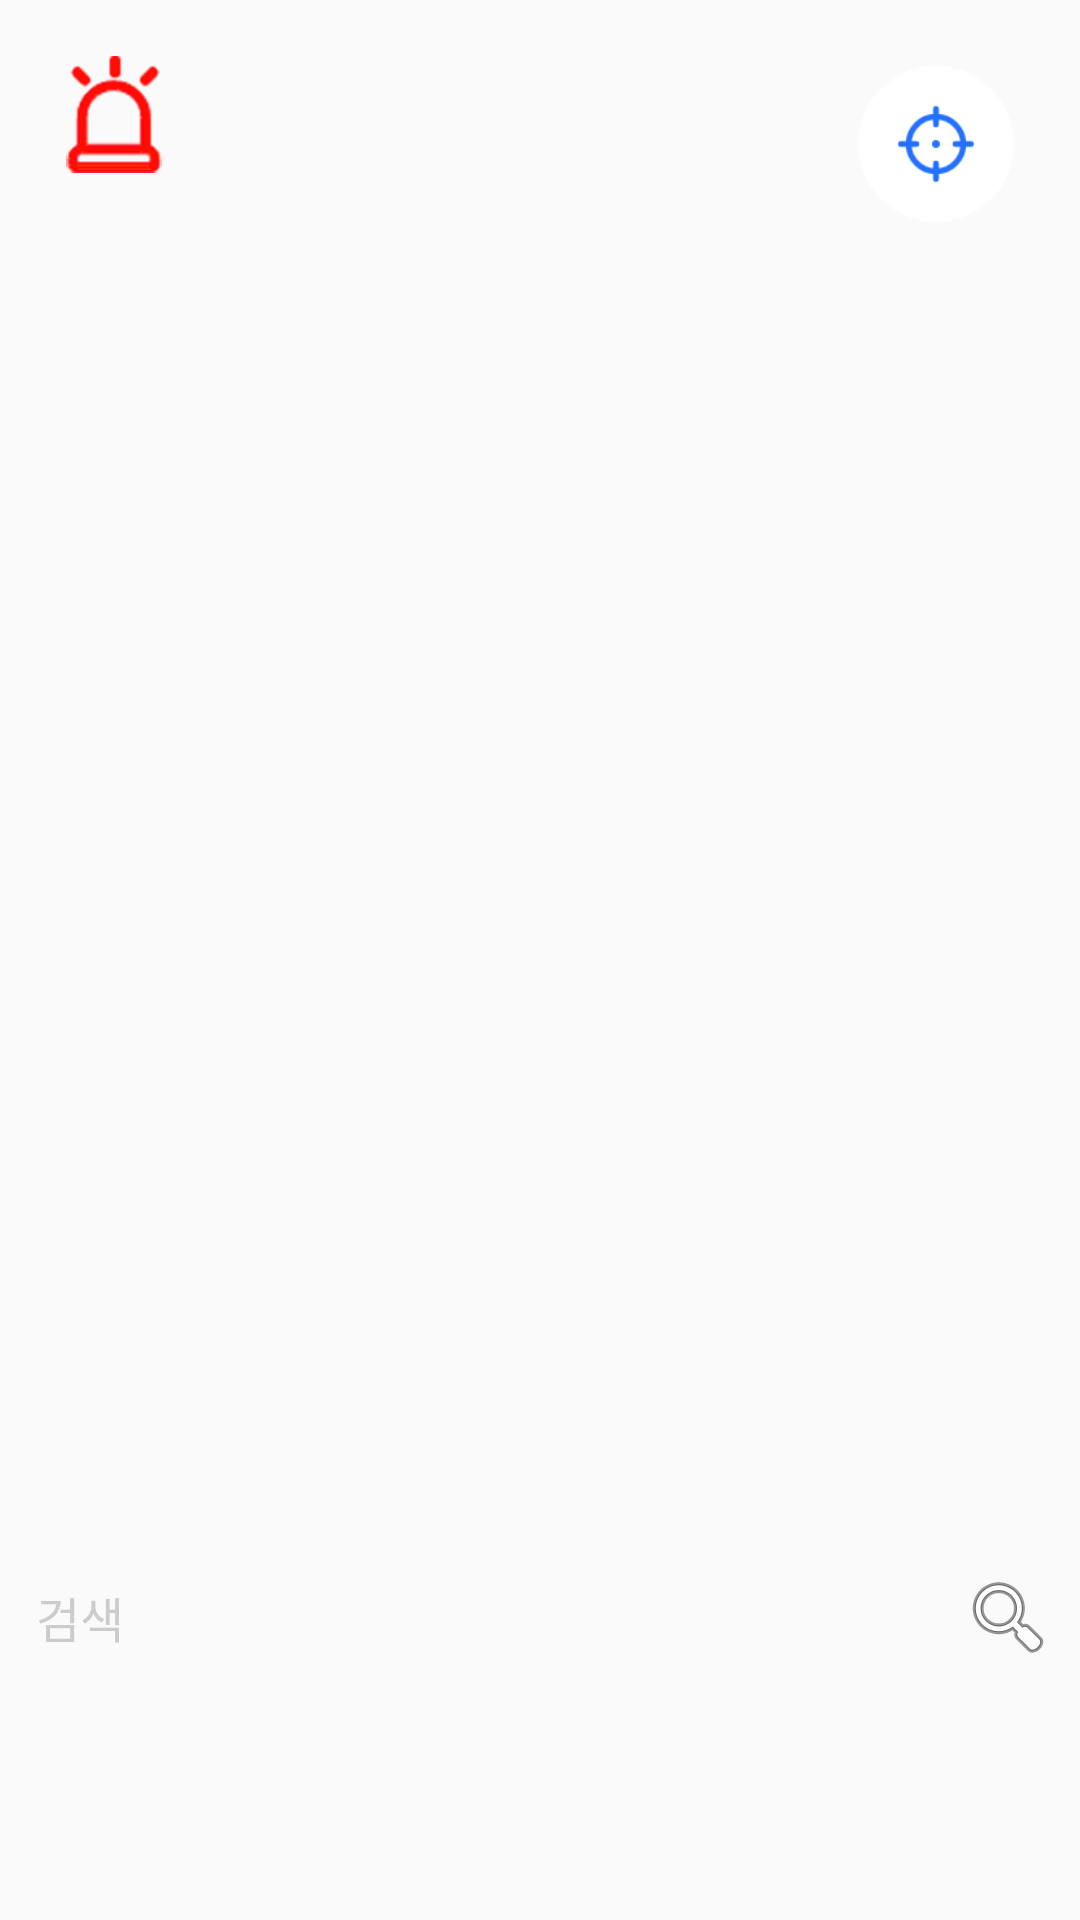

Icon bounding boxes for this 1080 x 1920 phone screenshot, format (x1, y1, x2, y2):
search: (972, 1582, 1044, 1653)
sos fix: (66, 56, 162, 173)
